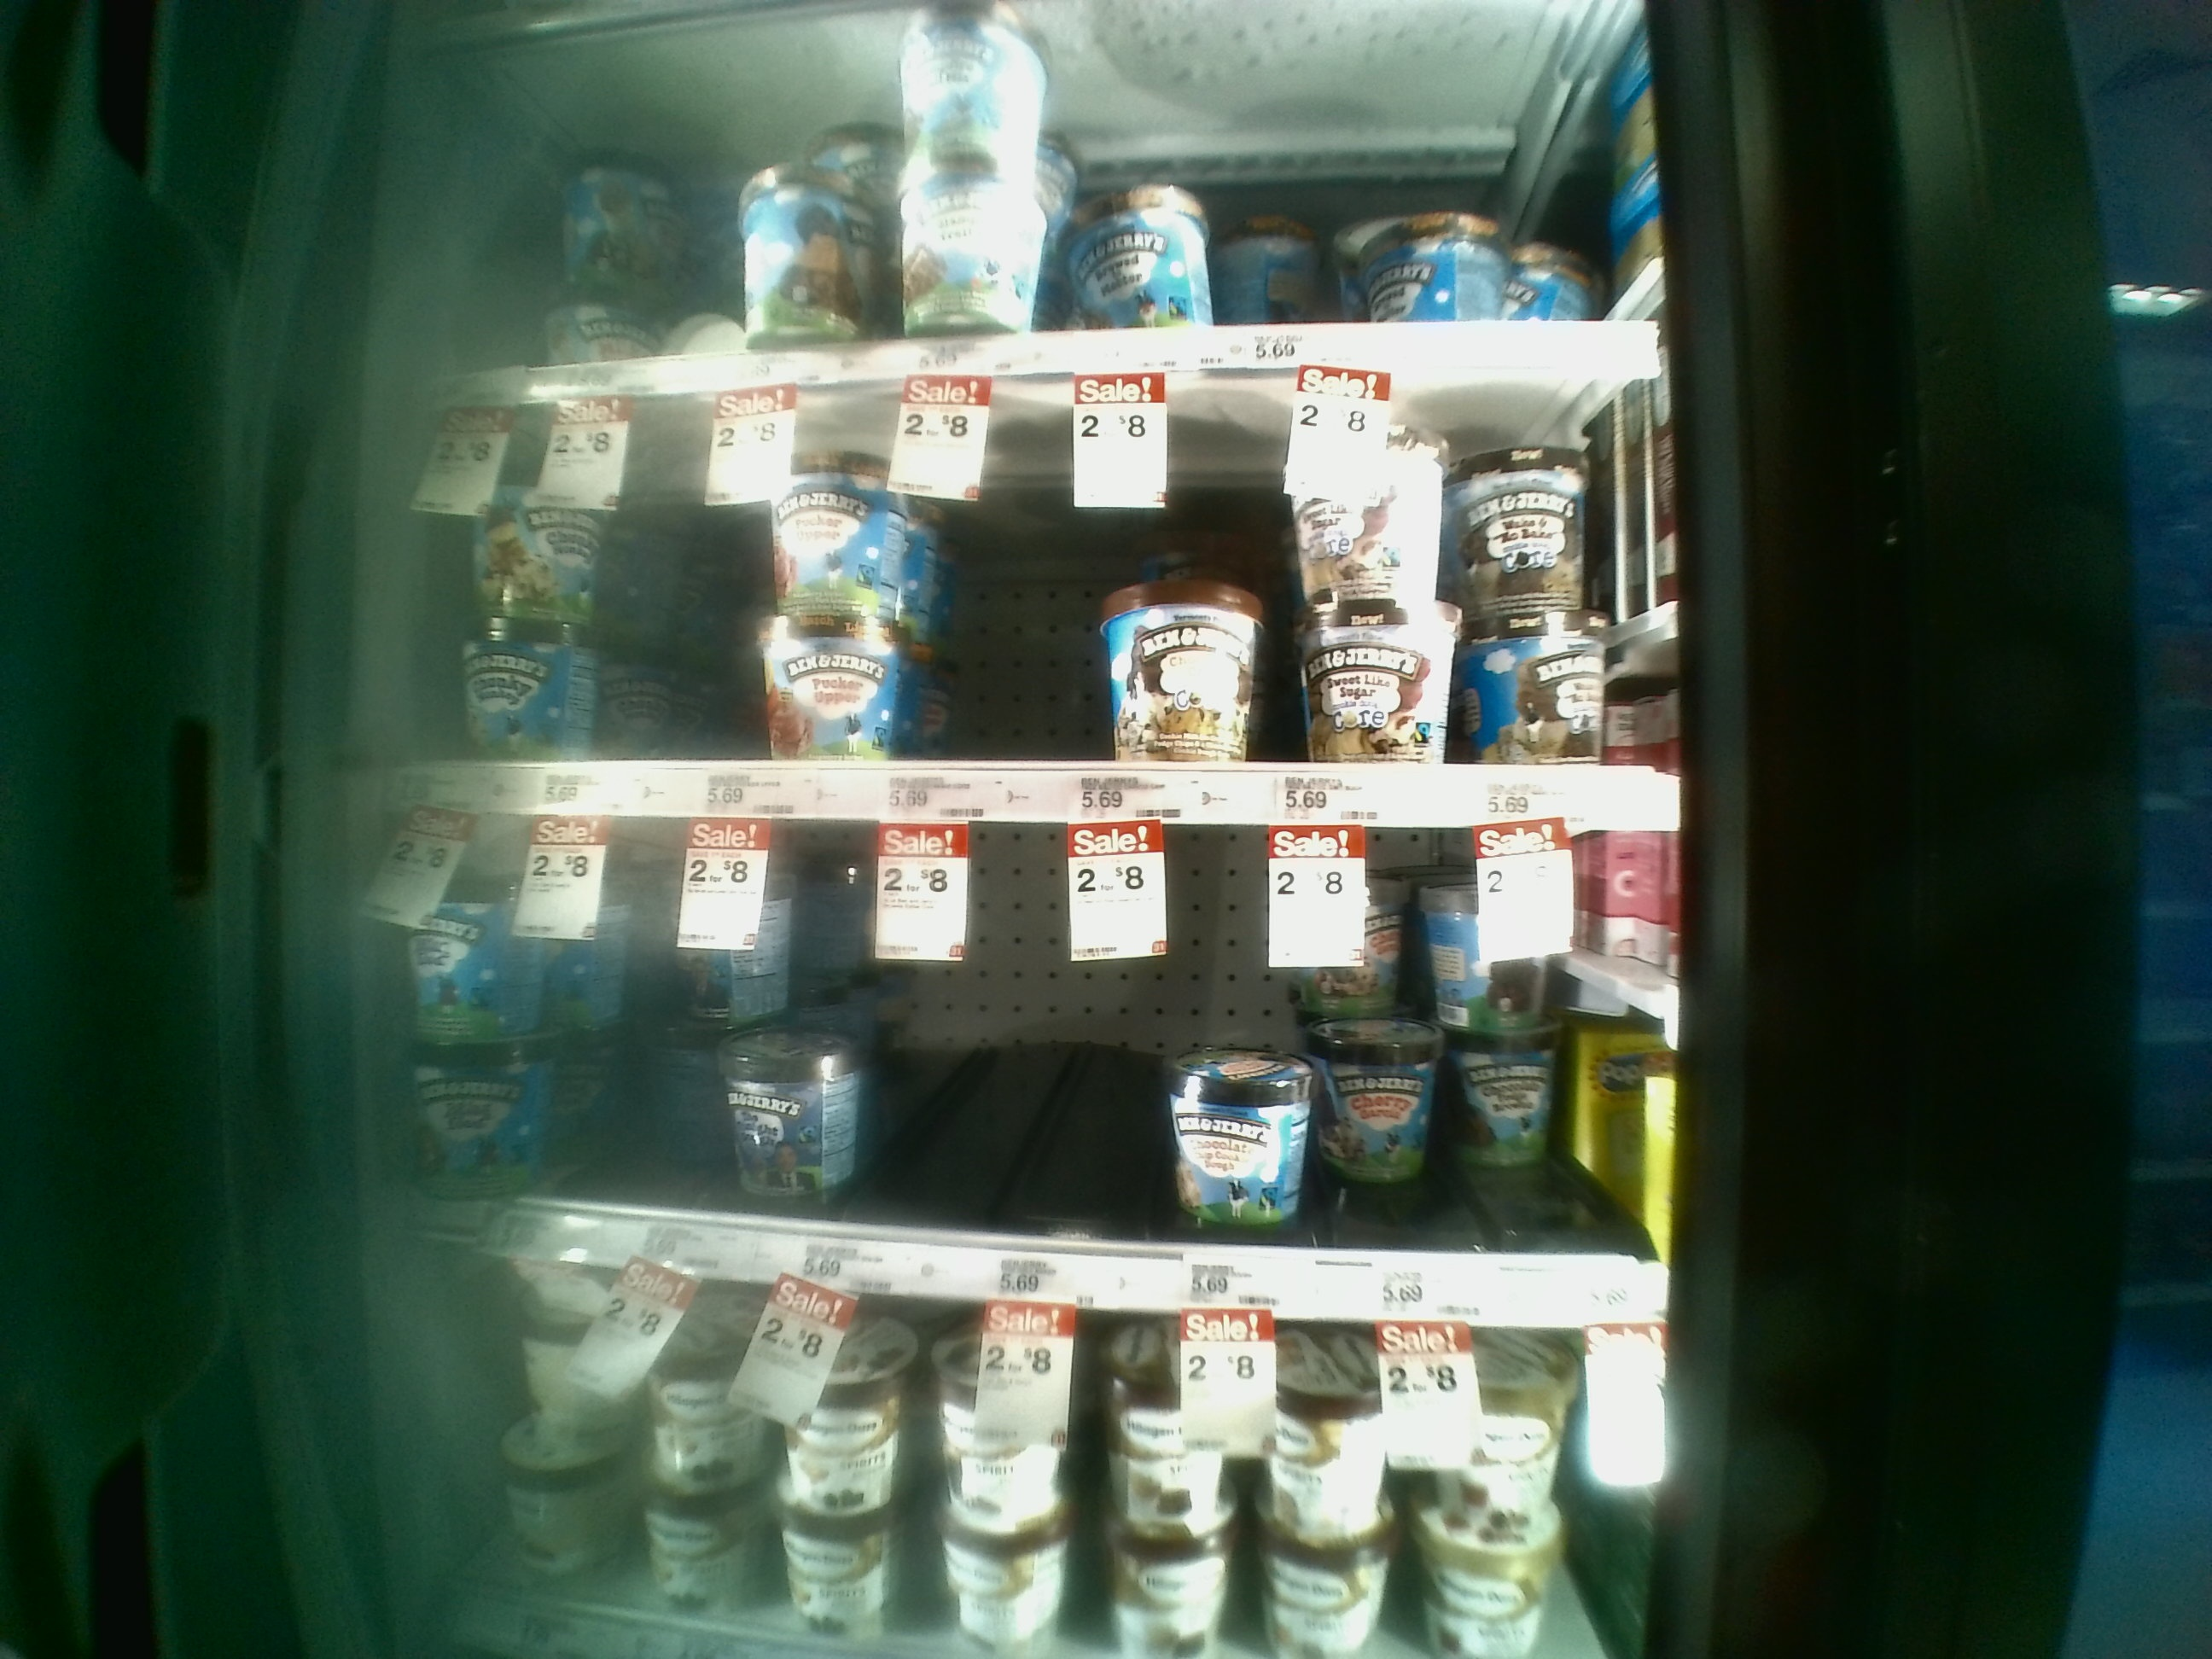shelf: (411, 819, 1676, 1333), (415, 403, 1691, 828)
